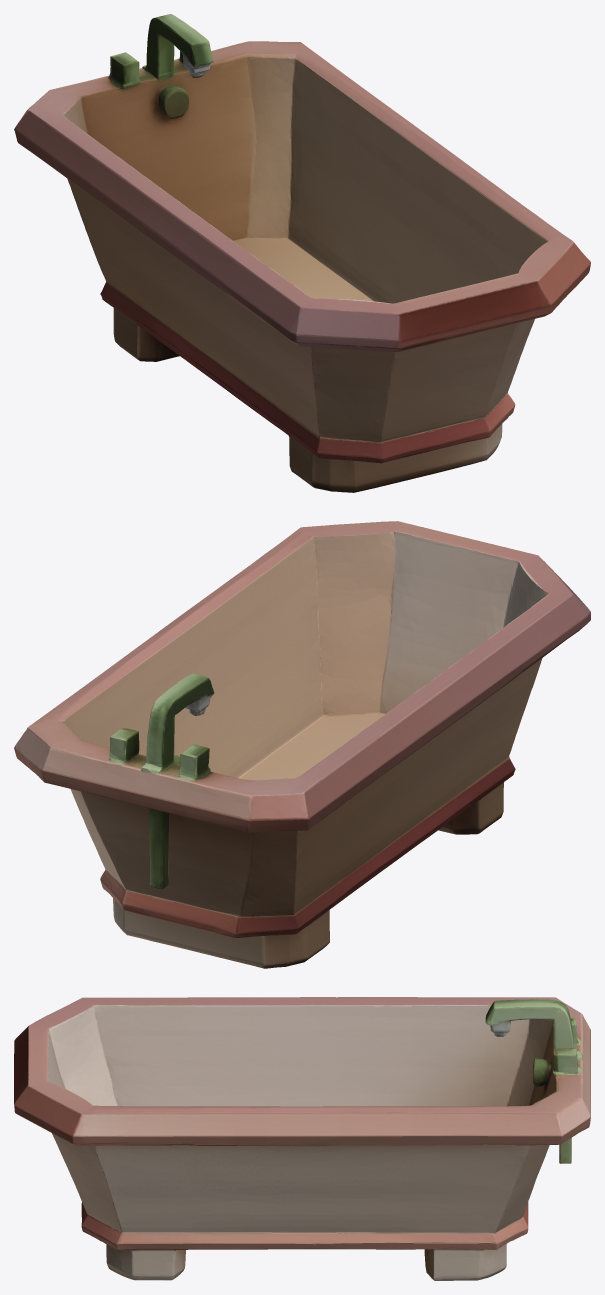
File: bathtub.glb
3 renders of one model, top to bottom at view 1: azimuth 30°, elevation 25°; view 2: azimuth 150°, elevation 25°; view 3: azimuth 270°, elevation 25°, orthographic. The views are drawn at different scales.
Parts seen in each view (by area): view 1: world; view 2: world; view 3: world.
Part boxes in pixels (x1,y1,x2,y2): world: (14,14,590,492); world: (14,521,590,968); world: (14,997,590,1280).
Size of the model in its own units: 0.5191 by 0.4583 by 1.
1 material, 1 textured.
